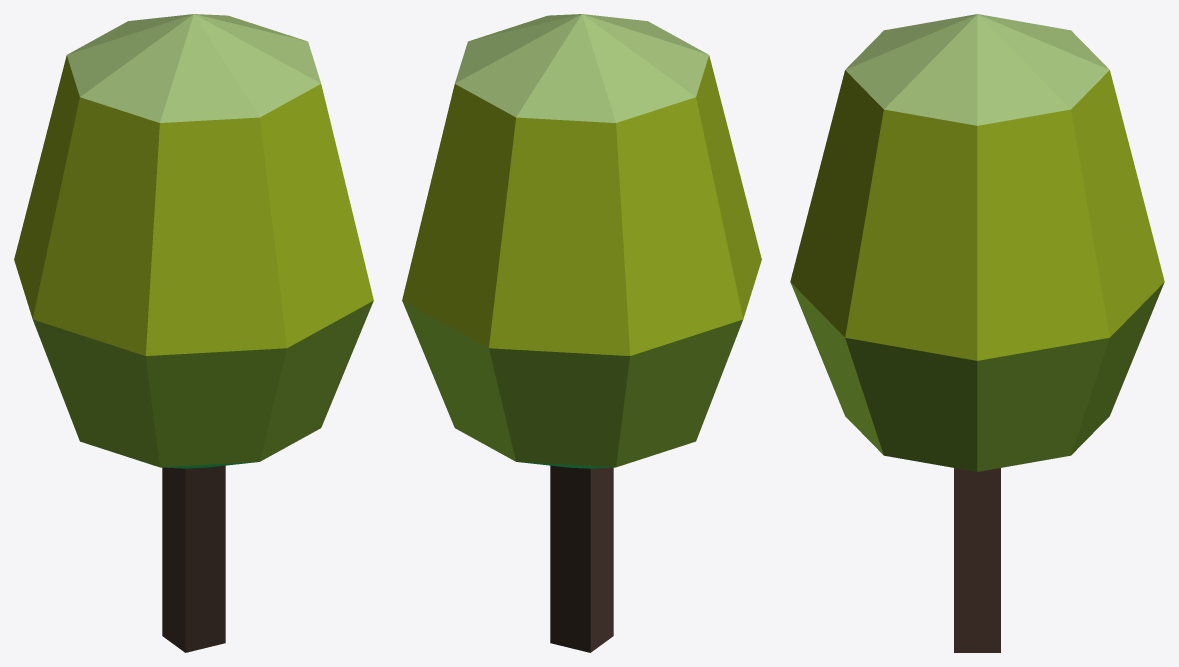
Rendered from TB_CITY_Env_Tree_Sphere_B.FBX.
3 views of the same model, side by side, from view 1: azimuth 30°, elevation 25°; view 2: azimuth 150°, elevation 25°; view 3: azimuth 270°, elevation 25° (orthographic).
Parts seen in each view (by area): view 1: TB_CITY_Env_Tree_Sphere_B; view 2: TB_CITY_Env_Tree_Sphere_B; view 3: TB_CITY_Env_Tree_Sphere_B.
Part boxes in pixels (x1,y1,x2,y2): TB_CITY_Env_Tree_Sphere_B: (14,14,373,652); TB_CITY_Env_Tree_Sphere_B: (402,14,761,652); TB_CITY_Env_Tree_Sphere_B: (790,14,1164,652).
Bounding box in the file's own units: 2.88 × 5.33 × 2.88.
